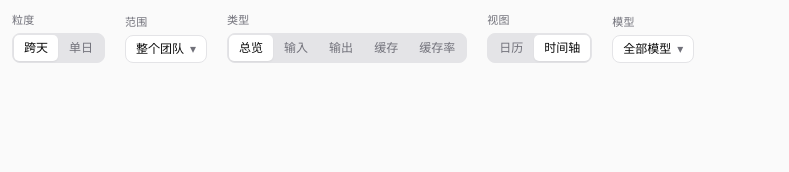
Test case: TokenStatsControls —— model 筛选下拉（availableModels 数据源） › availableModels 含 __unknown__ → 选项 label 显「未知模型」
The width and height of the screenshot is (789, 172).
Click the button "全部模型 ▾" at [653, 48], box x1=612 y1=34 x2=694 y2=62
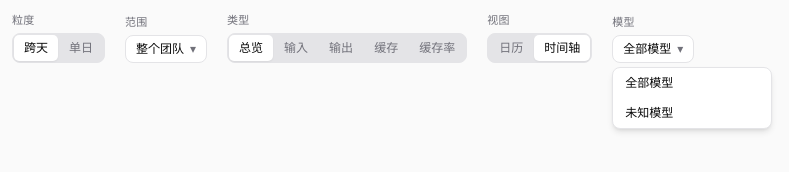
Check: the button "未知模型" is shown, box x1=613 y1=98 x2=771 y2=128
